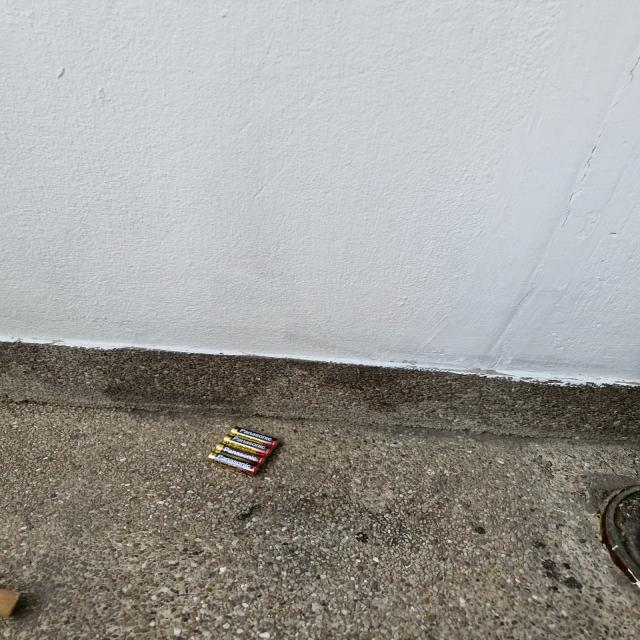battery: (197, 420, 290, 479)
